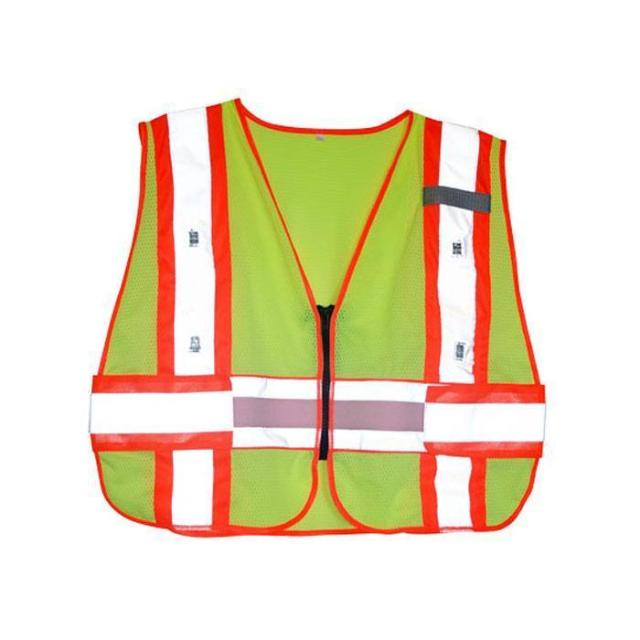Vest: (75, 96, 547, 539)
